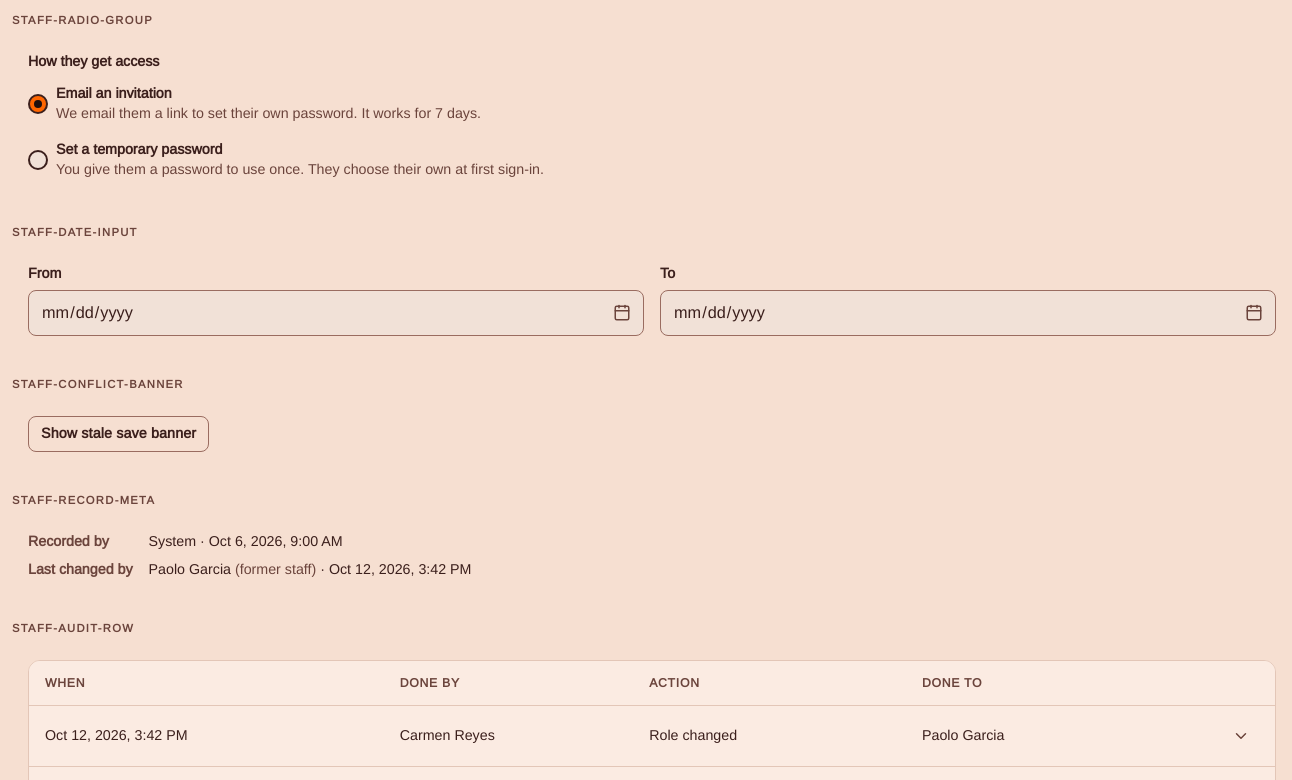
Test: Phase5Demos: the primitives › shows the RadioGroup with the invitation chosen, and choosing the other route moves the selection
The image size is (1292, 780).
Expected: the radio button labelled "Email an invitation" is checked, [28,94,48,114]
Click the radio button labelled "Set a temporary password".
click(38, 160)  # box [28,150,48,170]
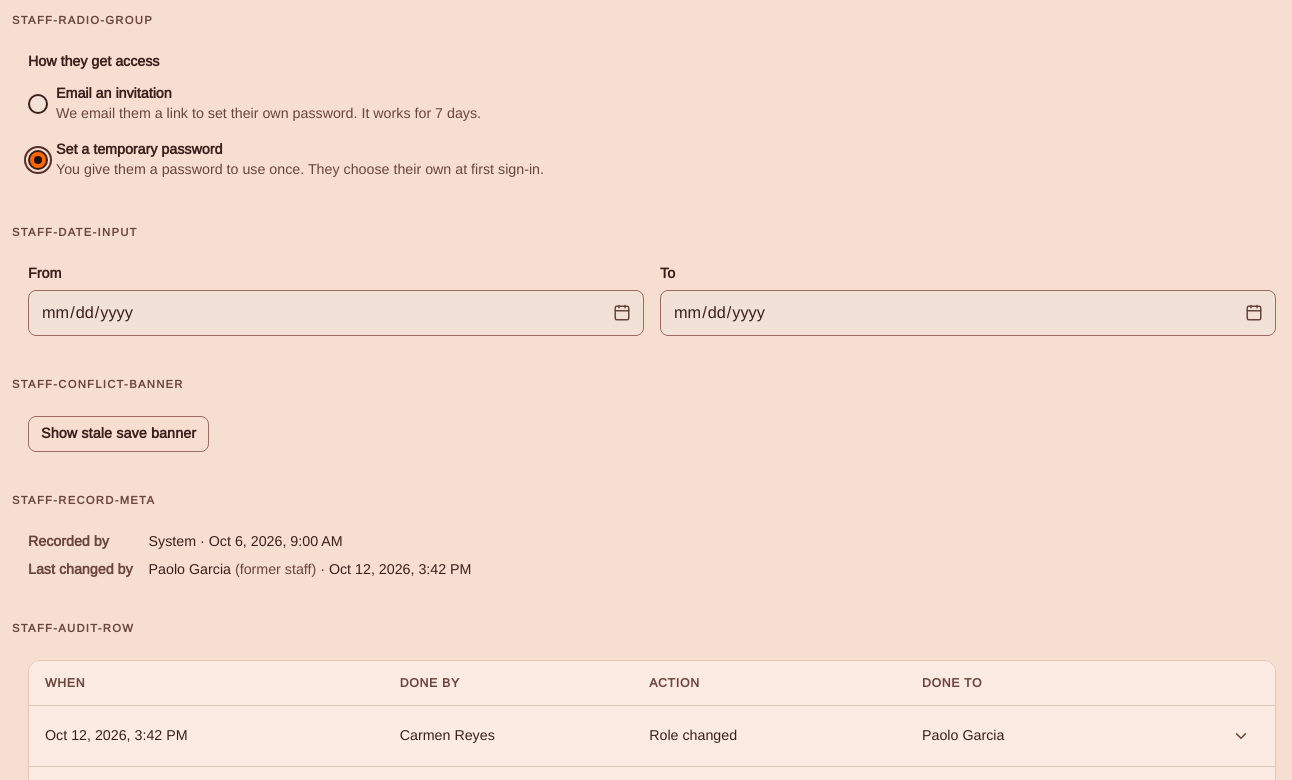
Expected: the radio button labelled "Set a temporary password" is checked, [28,150,48,170]
Expected: the radio button labelled "Email an invitation" is not checked, [28,94,48,114]
